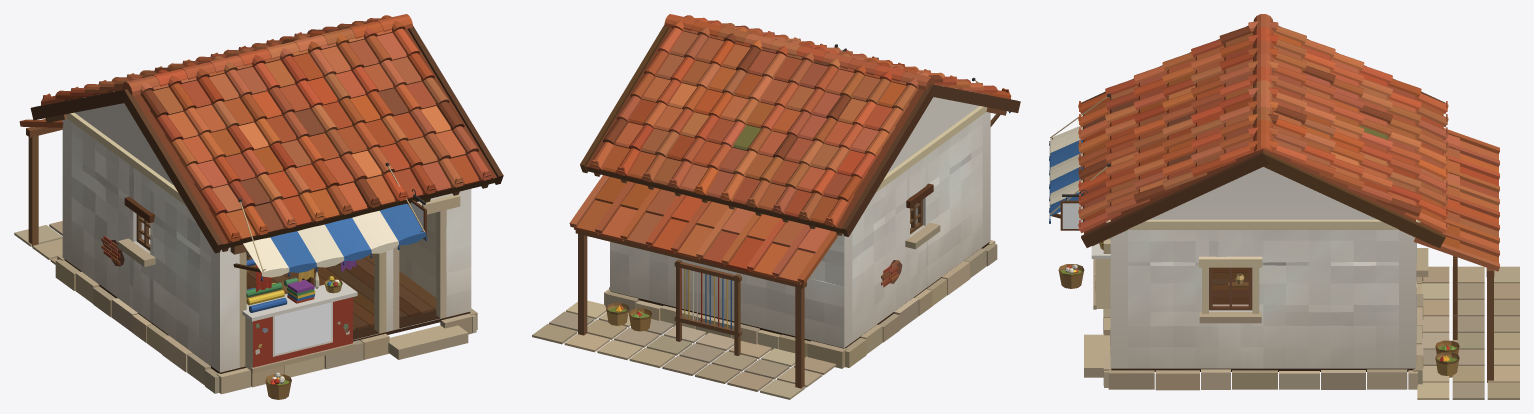
Rendered from shop_weaver.glb.
3 renders of one model, left to right at view 1: azimuth 30°, elevation 25°; view 2: azimuth 150°, elevation 25°; view 3: azimuth 270°, elevation 25°, orthographic. The views are drawn at different scales.
Visible parts, largest first — view 1: House, Walls, Rooms; view 2: House, Walls; view 3: House, Walls, Rooms.
Boxes of the visible parts, x1,y1,x2,y2 form: House: (14, 14, 503, 399); Walls: (62, 103, 471, 372); Rooms: (149, 212, 436, 330); House: (532, 14, 1020, 399); Walls: (610, 97, 990, 347); House: (1049, 14, 1519, 399); Walls: (1110, 167, 1416, 368); Rooms: (1212, 267, 1248, 304).
Size of the model in its own units: 4.28 by 3.48 by 6.01.
Materials: 7 (7 with a texture image).
